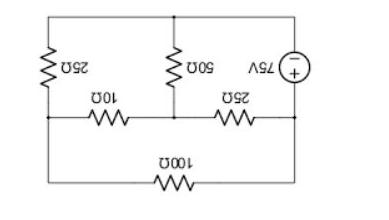resistor: (159, 36, 188, 96), (146, 168, 203, 197), (79, 104, 134, 130), (210, 104, 258, 133), (34, 36, 58, 90)
